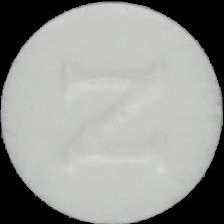50090-0133: (0, 0, 224, 224)
